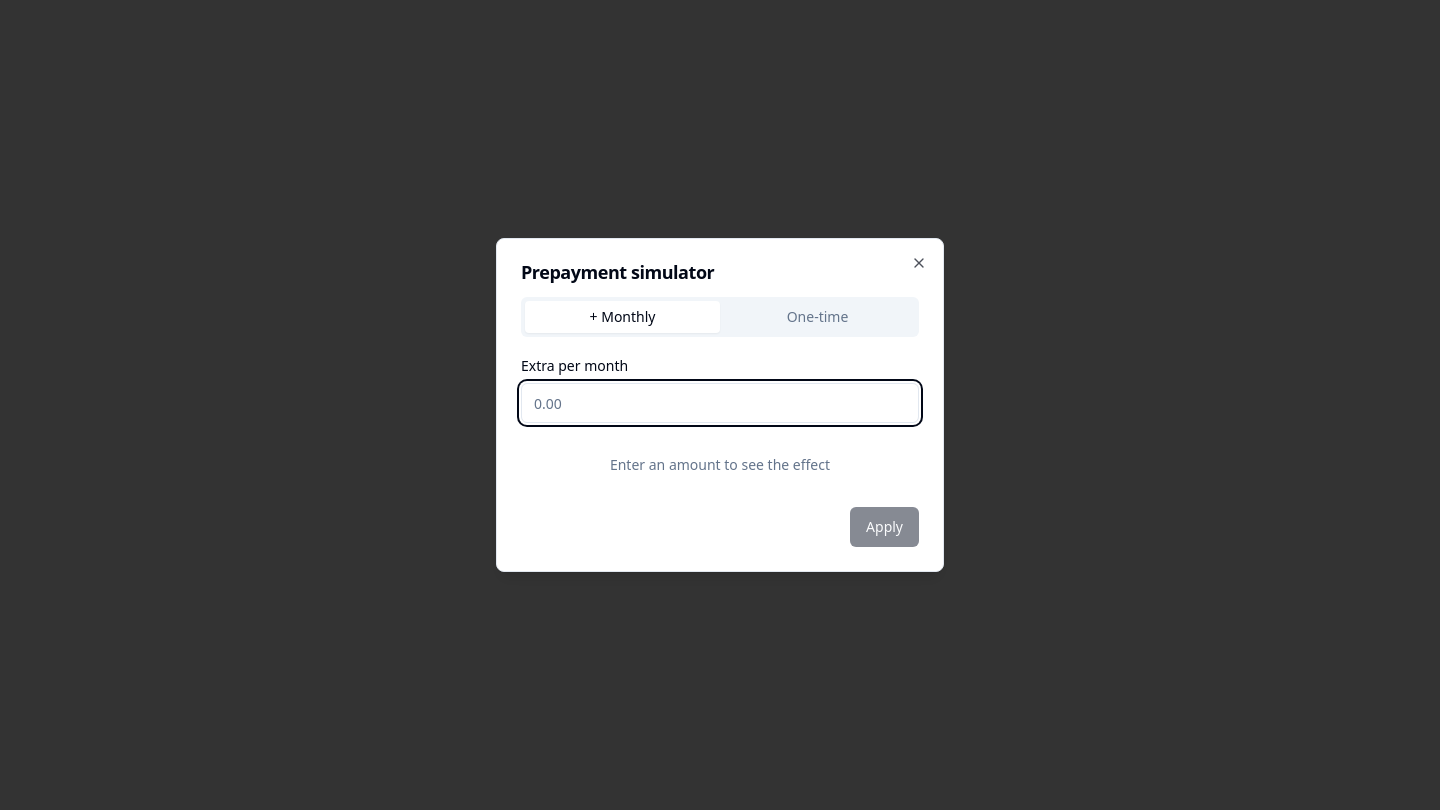
DebtSimulatorDialog › renders the two headline numbers for an extra monthly payment
Type "200" into the field labelled "Extra per month".
click(720, 403); type("200")  # box [521,383,919,423]
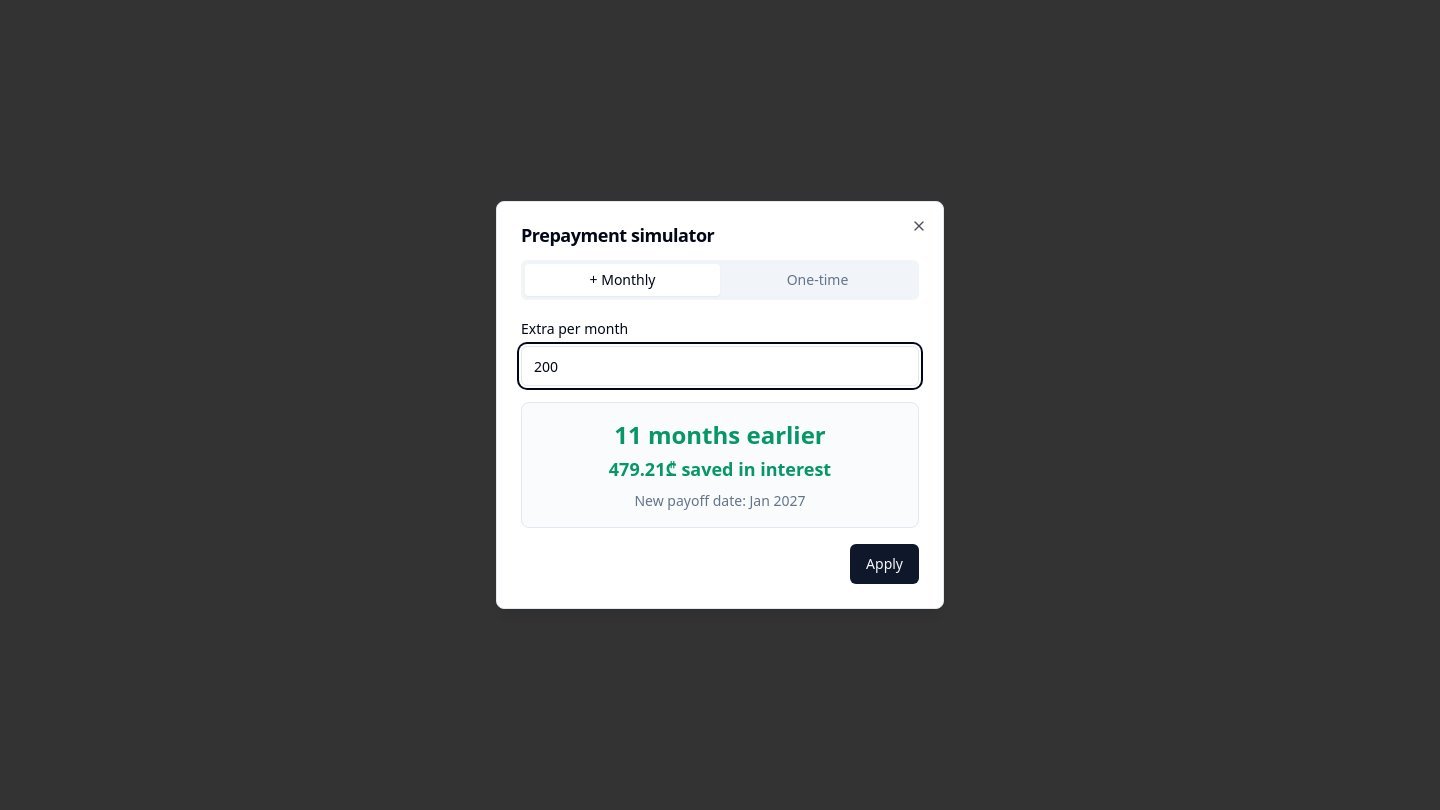
Expected: the text "11 months earlier" is shown, [614,418,826,451]
Expected: the text "479.21₾ saved in interest" is shown, [609,457,831,481]
